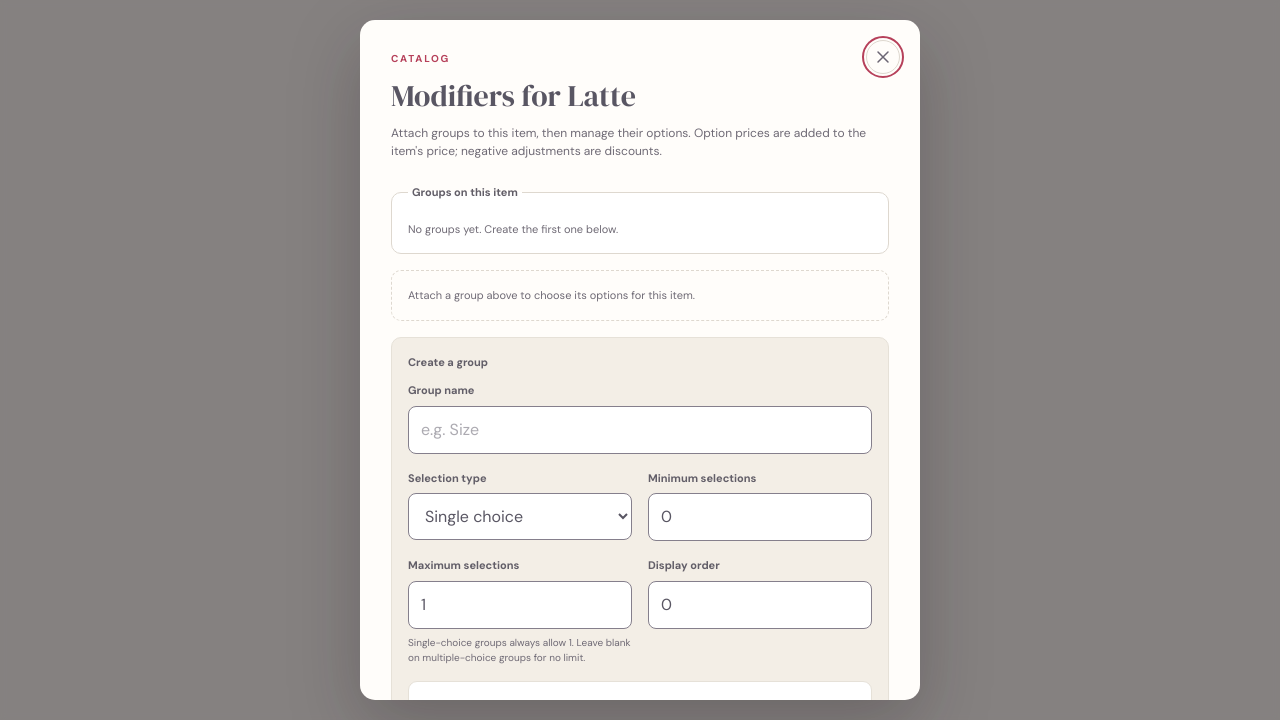
Test case: ModifierDialog group validation › rejects a required multiple group with a minimum of zero
Type "Extras" into the field labelled "Group name" at x=640, y=430, box 408,406 -> 872,454
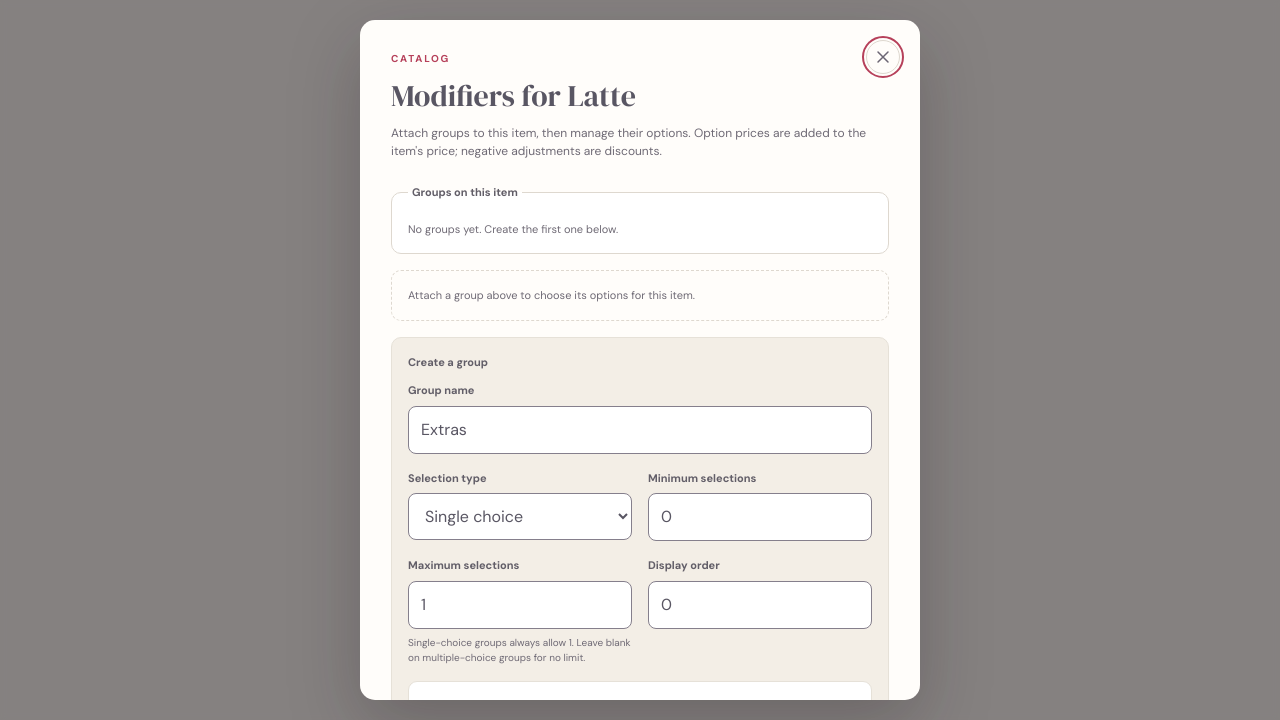
Select "Multiple choices" in the dropdown labelled "Selection type" at x=520, y=516, box 408,493 -> 632,540
(page scrolled)
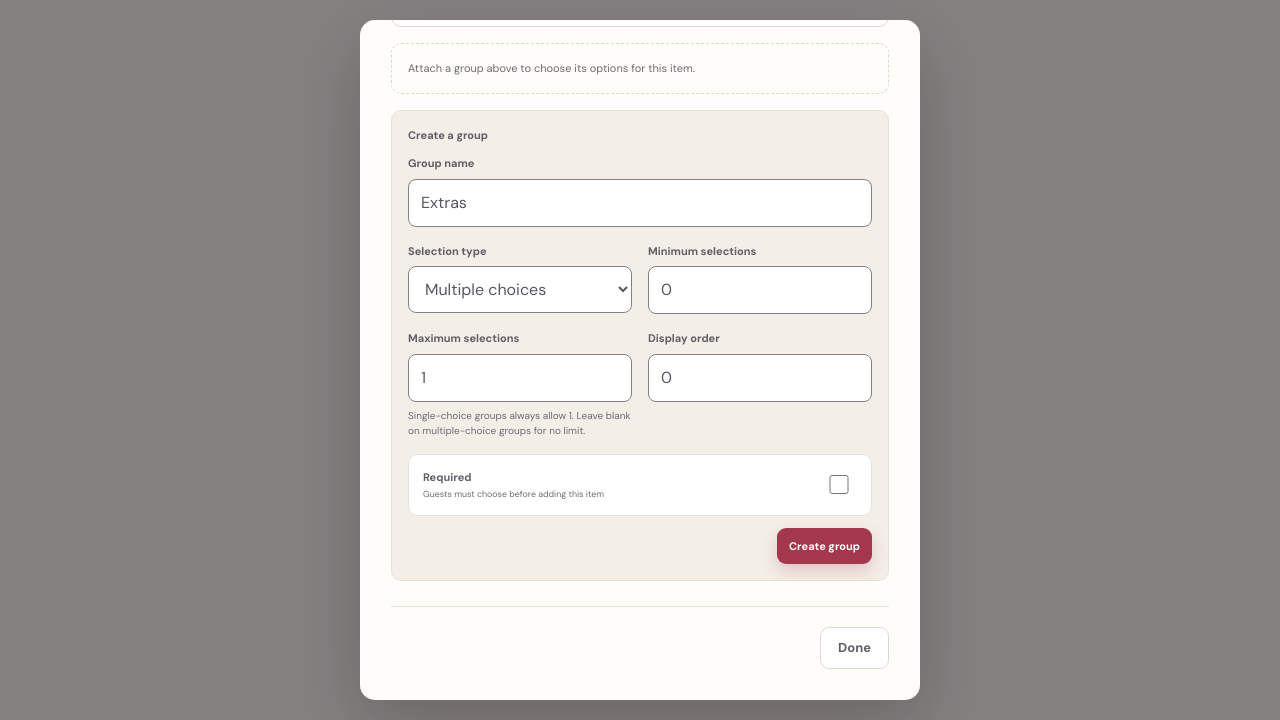
Click the checkbox named "required group" at x=839, y=485, box 821,475 -> 857,494
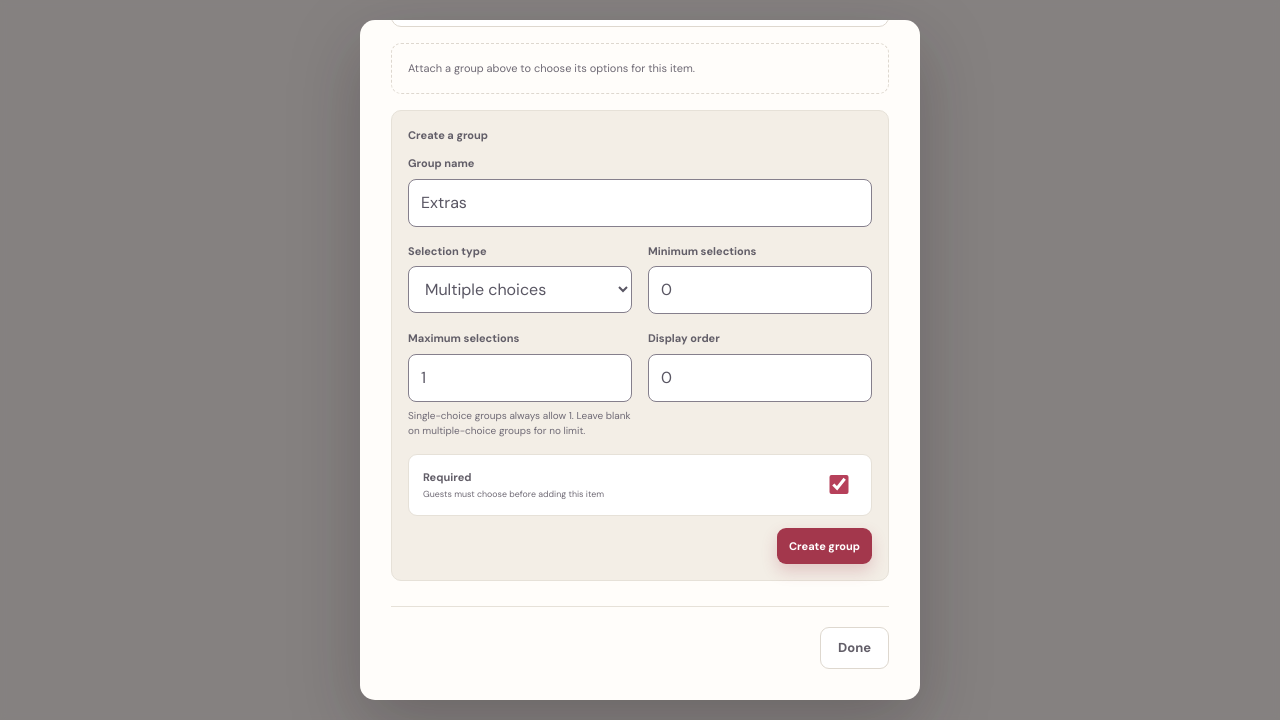
Click the button "Create group" at x=824, y=546, box 777,528 -> 872,564
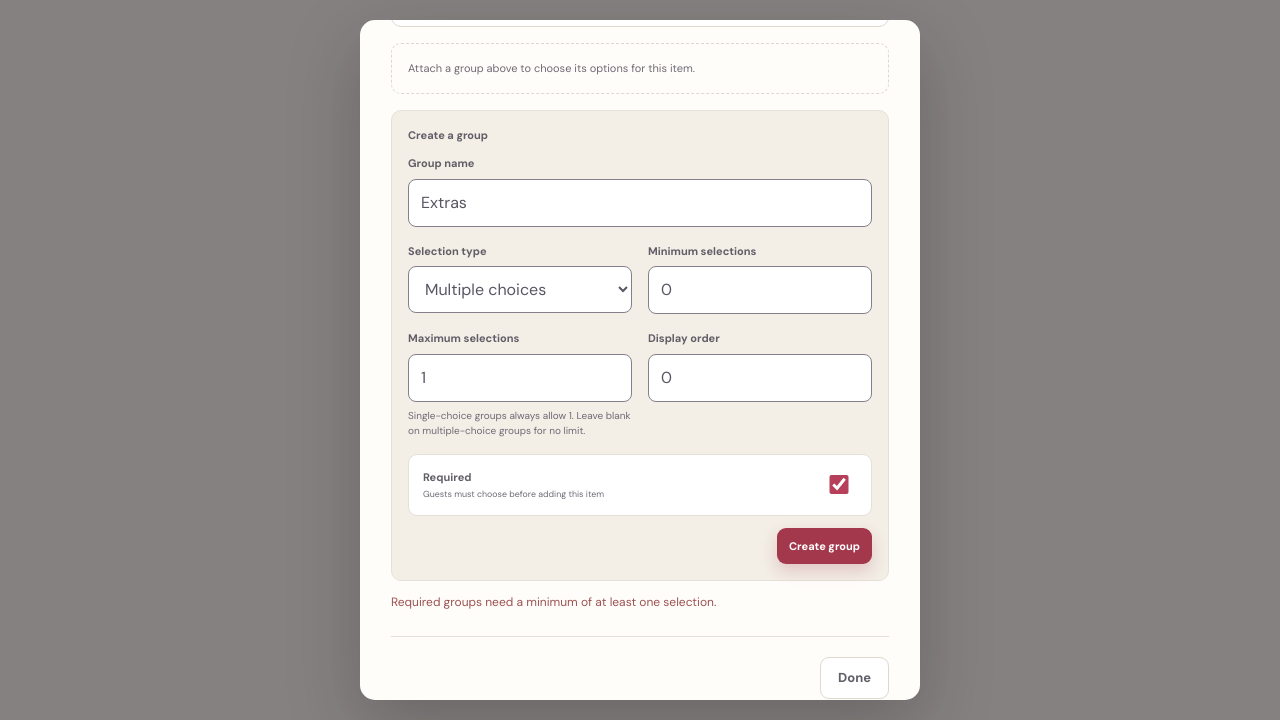
Expected: the text "Required groups need a minimum of at least one selection." is shown, 391,594 -> 716,610
